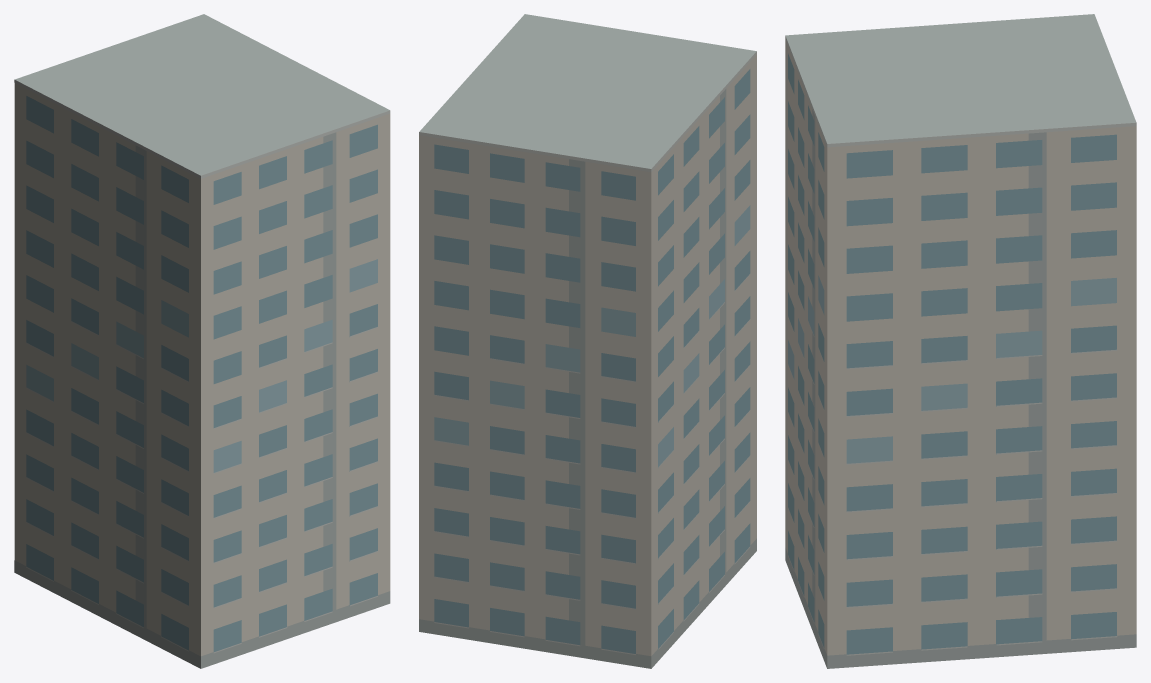
Rendered from residential-ae4627bd-1c42-4e22-ac94-904a40e40439.glb.
3 views of the same model, side by side, from view 1: azimuth 30°, elevation 25°; view 2: azimuth 150°, elevation 25°; view 3: azimuth 270°, elevation 25° (orthographic). The views are drawn at different scales.
Parts seen in each view (by area): view 1: residential-ae4627bd-1c42-4e22-ac94-904a40e40439.tmp; view 2: residential-ae4627bd-1c42-4e22-ac94-904a40e40439.tmp; view 3: residential-ae4627bd-1c42-4e22-ac94-904a40e40439.tmp.
Boxes of the visible parts, x1,y1,x2,y2 form: residential-ae4627bd-1c42-4e22-ac94-904a40e40439.tmp: (14,14,390,668); residential-ae4627bd-1c42-4e22-ac94-904a40e40439.tmp: (419,14,756,668); residential-ae4627bd-1c42-4e22-ac94-904a40e40439.tmp: (785,14,1136,668).
Size of the model in its own units: 20.2 by 38 by 23.05.
